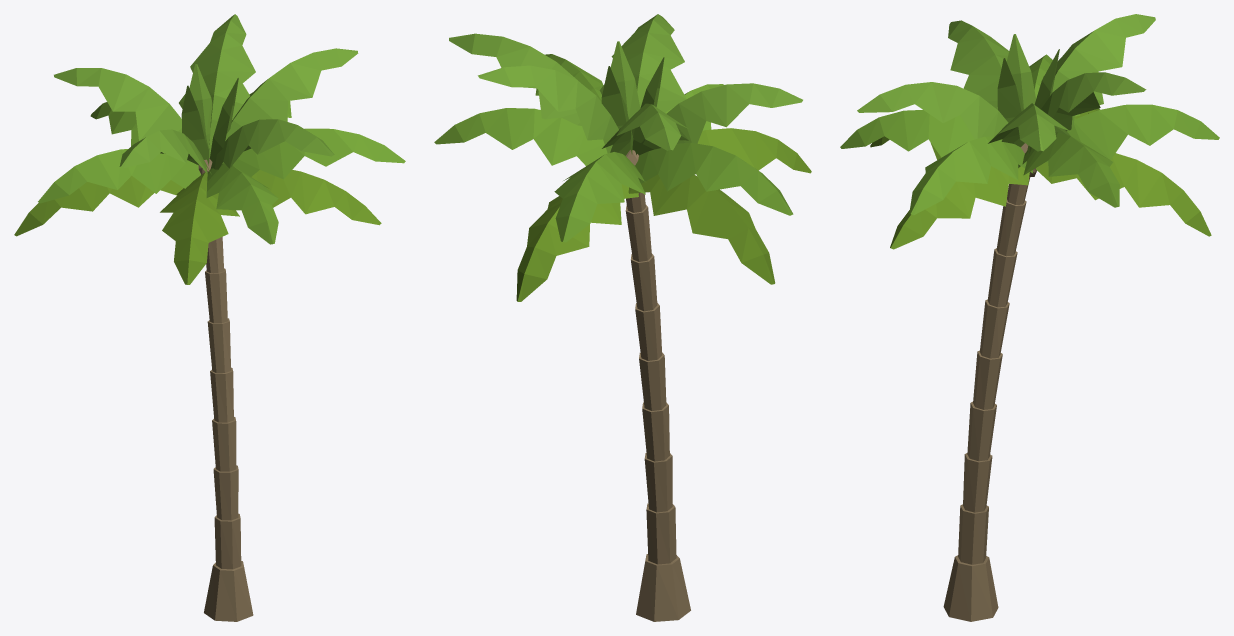
Rendered from palm_a.glb.
3 renders of one model, left to right at view 1: azimuth 30°, elevation 25°; view 2: azimuth 150°, elevation 25°; view 3: azimuth 270°, elevation 25°, orthographic. The views are drawn at different scales.
Parts seen in each view (by area): view 1: palm; view 2: palm; view 3: palm.
Boxes of the visible parts, bbox=[...] form: palm: bbox=[14, 14, 405, 621]; palm: bbox=[434, 14, 811, 621]; palm: bbox=[840, 14, 1219, 621].
Bounding box in the file's own units: 7.13 × 11.18 × 6.74.
